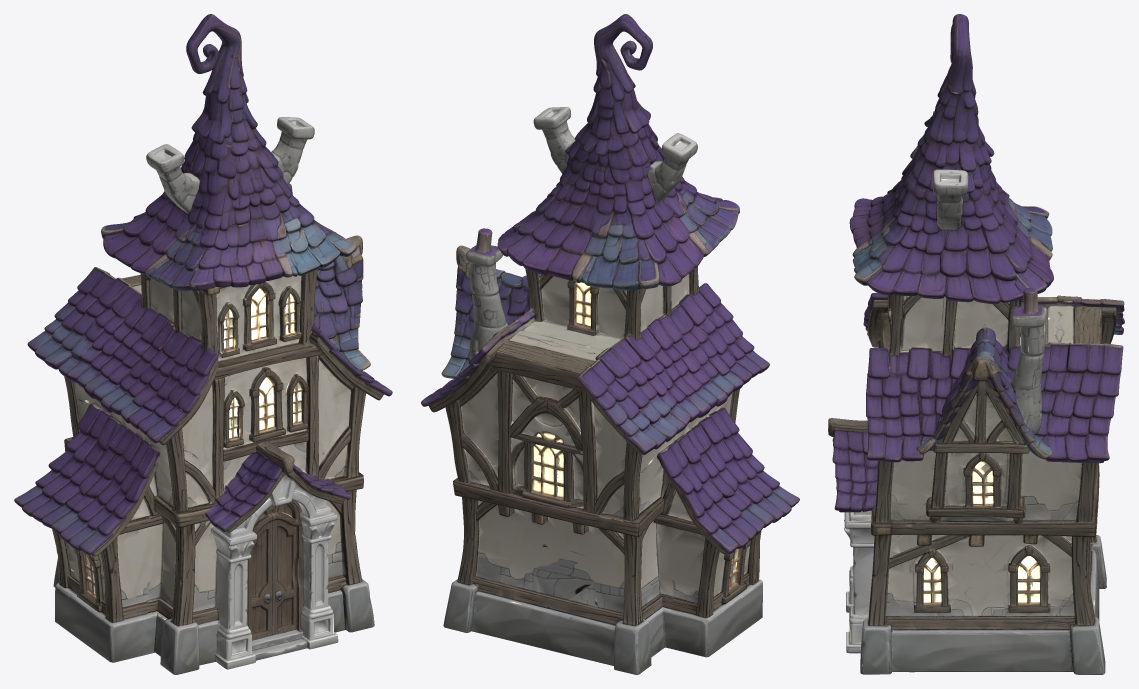
Rendered from SilverBank_300k.glb.
3 renders of one model, left to right at view 1: azimuth 30°, elevation 25°; view 2: azimuth 150°, elevation 25°; view 3: azimuth 270°, elevation 25°, orthographic. The views are drawn at different scales.
Parts seen in each view (by area): view 1: Mesh_0; view 2: Mesh_0; view 3: Mesh_0.
Part boxes in pixels (x1,y1,x2,y2): Mesh_0: [14, 14, 392, 674]; Mesh_0: [421, 14, 799, 674]; Mesh_0: [828, 14, 1124, 674].
Bounding box in the file's own units: 1.04 × 1.9 × 0.8467.
Materials: 1 (1 with a texture image).
